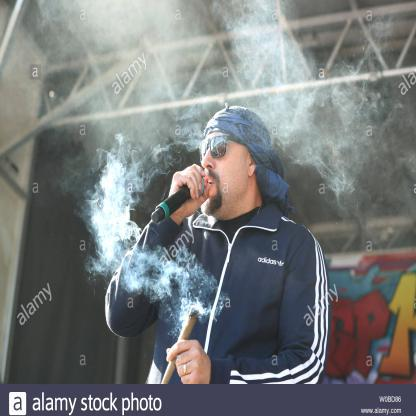person: (128, 107, 327, 385)
smoke: (232, 3, 308, 121), (302, 83, 378, 193), (32, 0, 181, 47), (83, 152, 138, 278), (125, 250, 176, 300), (175, 254, 210, 313), (180, 120, 202, 152)
